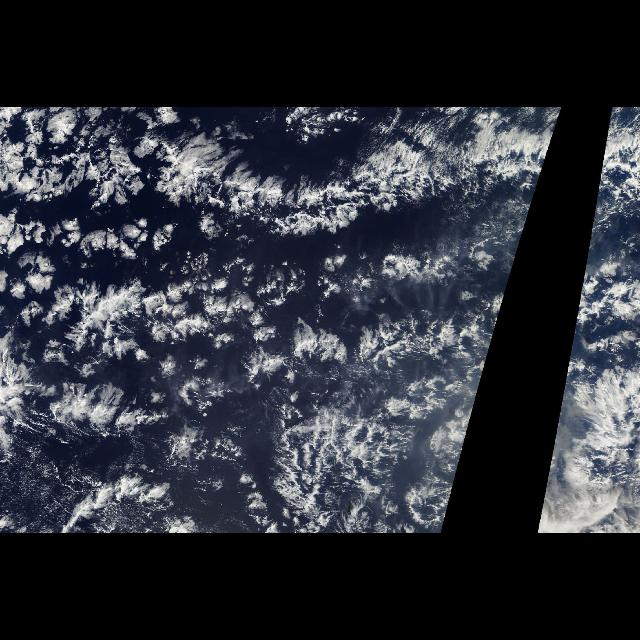Fish: (157, 107, 558, 243), (280, 378, 482, 524), (31, 265, 268, 357), (2, 363, 180, 451), (588, 128, 638, 232)
Flower: (3, 109, 165, 437), (167, 241, 349, 403)
